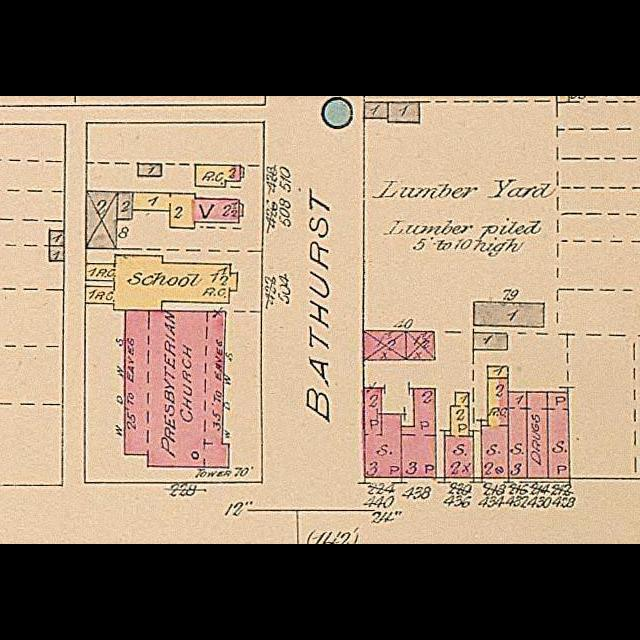building-footprints: (125, 310, 229, 468), (86, 255, 237, 311), (132, 192, 243, 228), (364, 388, 402, 478), (401, 389, 436, 478), (481, 378, 509, 478), (445, 392, 474, 478), (548, 392, 570, 479), (527, 392, 548, 478), (474, 302, 544, 327), (86, 191, 116, 249), (508, 392, 527, 478), (363, 330, 406, 359), (195, 165, 245, 187), (406, 332, 435, 359), (388, 102, 420, 123), (473, 333, 508, 350), (364, 102, 388, 118), (118, 192, 132, 219), (138, 163, 162, 177), (487, 366, 508, 378), (49, 230, 64, 246), (49, 245, 64, 261)
